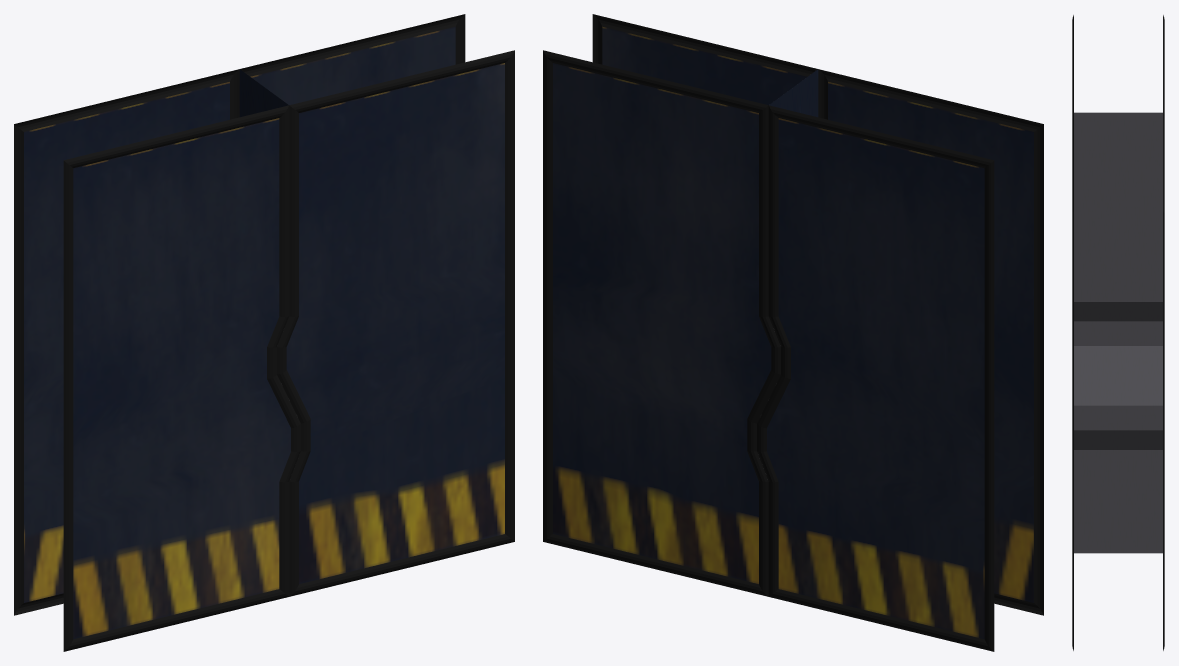
File: noanim.obj
3 renders of one model, left to right at view 1: azimuth 30°, elevation 25°; view 2: azimuth 150°, elevation 25°; view 3: azimuth 270°, elevation 25°, orthographic. The views are drawn at different scales.
Visible parts, largest first — view 1: Door.Right_Cube.006, Door.Left_Cube.007; view 2: Door.Right_Cube.006, Door.Left_Cube.007; view 3: Door.Left_Cube.007, Door.Right_Cube.006.
Boxes of the visible parts, box(x1,y1,x2,y2) form: Door.Right_Cube.006: box(14, 69, 300, 651); Door.Left_Cube.007: box(240, 14, 514, 596); Door.Right_Cube.006: box(757, 69, 1043, 651); Door.Left_Cube.007: box(543, 14, 817, 596); Door.Left_Cube.007: box(1072, 112, 1164, 650); Door.Right_Cube.006: box(1072, 15, 1164, 117).
Size of the model in its own units: 5.05 by 5.26 by 0.9998.
